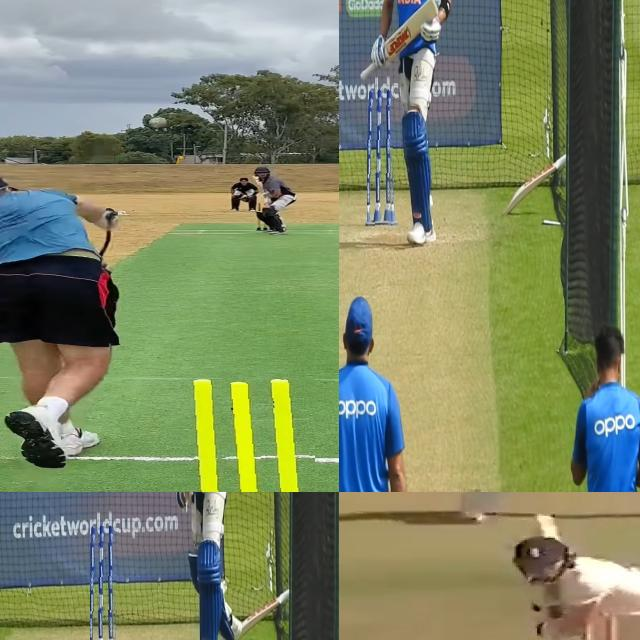Cricket ball: (147, 116, 169, 130)
Stumps: (171, 377, 314, 492), (367, 89, 395, 231), (90, 526, 119, 640)
